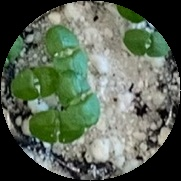Basil: (59, 70, 101, 125), (48, 26, 92, 77), (29, 107, 85, 146), (12, 67, 57, 104), (124, 30, 169, 60)
